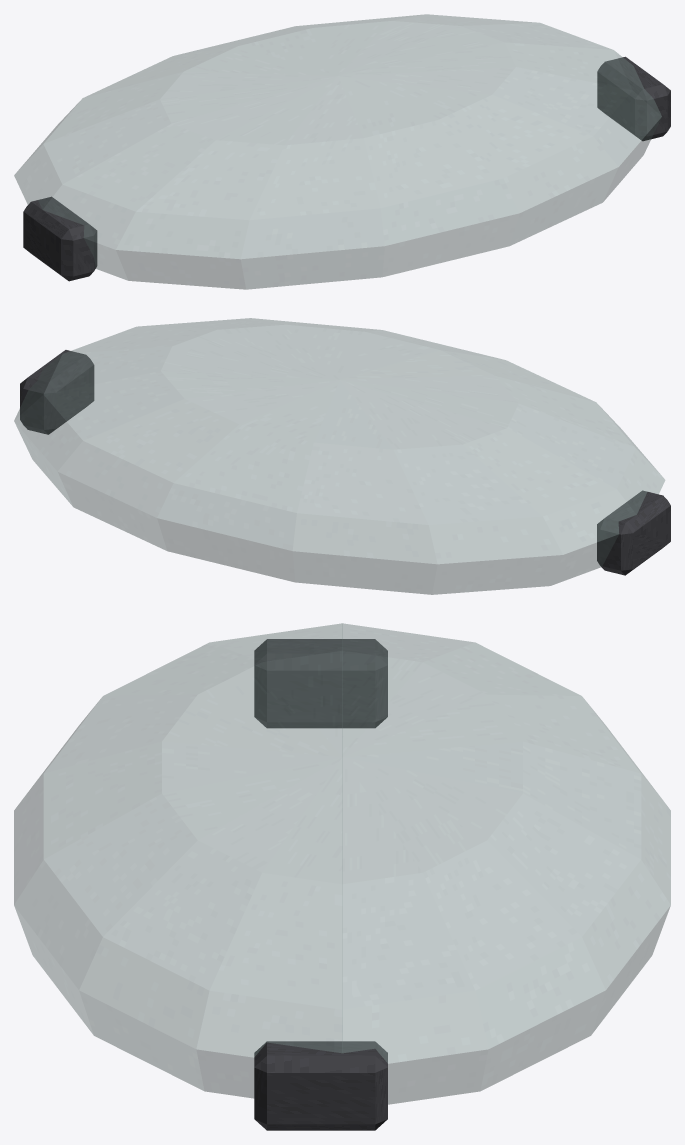
File: outsert_breach.glb
3 views of the same model, one above another, from view 1: azimuth 30°, elevation 25°; view 2: azimuth 150°, elevation 25°; view 3: azimuth 270°, elevation 25° (orthographic). The views are drawn at different scales.
Parts seen in each view (by area): view 1: block_panoramic polycarbonate lens, block_mask lens retaining clip (×2); view 2: block_panoramic polycarbonate lens, block_mask lens retaining clip (×2); view 3: block_panoramic polycarbonate lens, block_mask lens retaining clip (×2).
Boxes of the visible parts, x1,y1,x2,y2 form: block_panoramic polycarbonate lens: [14, 14, 661, 289]; block_mask lens retaining clip (×2): [23, 56, 670, 281]; block_panoramic polycarbonate lens: [14, 318, 665, 594]; block_mask lens retaining clip (×2): [20, 350, 670, 575]; block_panoramic polycarbonate lens: [14, 623, 670, 1104]; block_mask lens retaining clip (×2): [254, 639, 387, 1130].
Bounding box in the file's own units: 0.17 × 0.0345 × 0.1104.
Materials: 2 (2 with a texture image).
